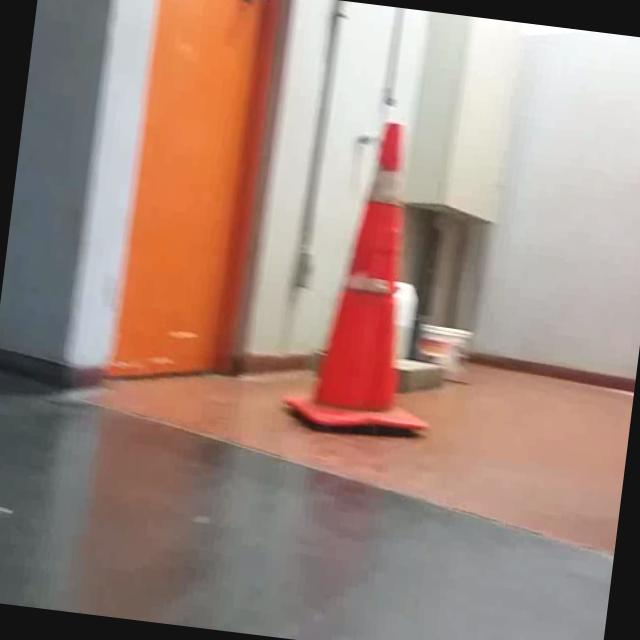cone: (282, 113, 466, 440)
